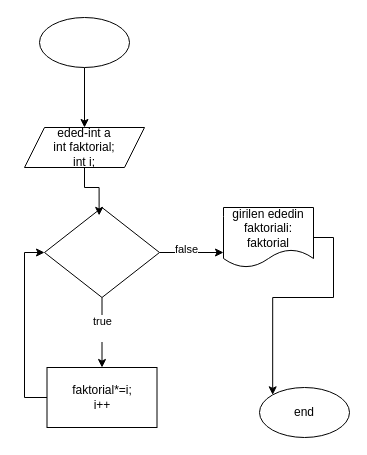
Image size: 367x455. Some labels were removed from this diagram. The box of each missing label's shape, as (x1, y1, x2, y2) in pixels:
int(i=1;i<=a;i++): (44, 206, 160, 298)
start: (38, 16, 130, 68)
